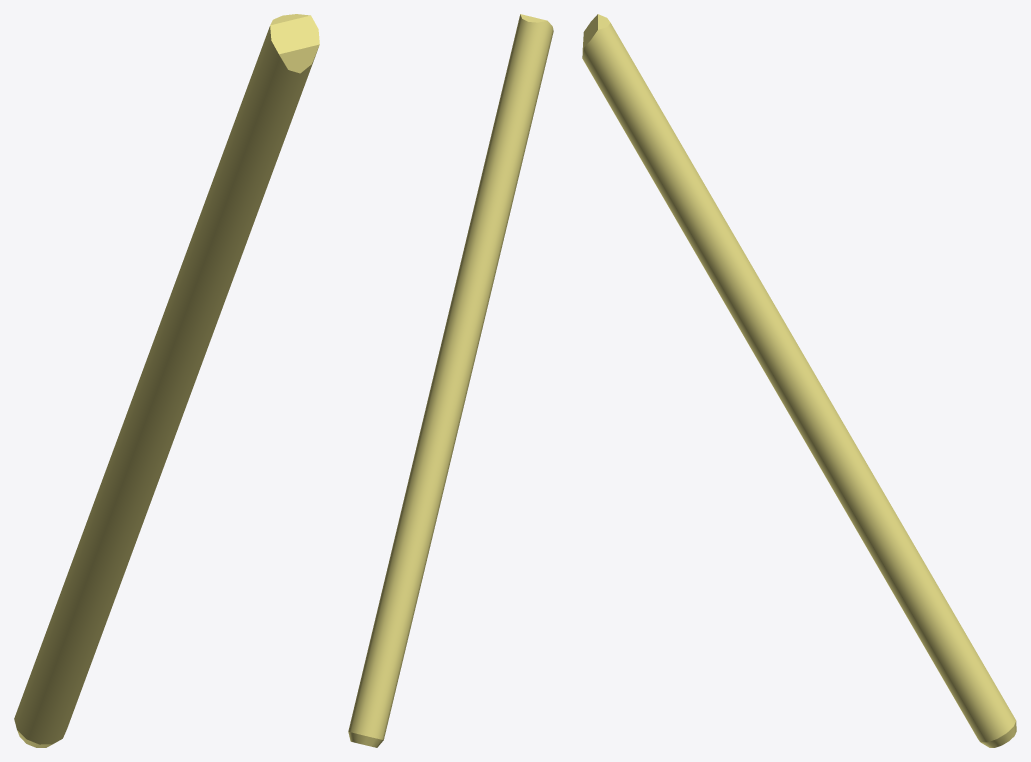
File: original-8.obj
The picture shows the model from 3 angles, left to right: view 1: azimuth 30°, elevation 25°; view 2: azimuth 150°, elevation 25°; view 3: azimuth 270°, elevation 25°; orthographic projection. The views are drawn at different scales.
Parts seen in each view (by area): view 1: Group_1_2/Group_1/mesh25/mesh25-geometry#mesh25-geometry; view 2: Group_1_2/Group_1/mesh25/mesh25-geometry#mesh25-geometry; view 3: Group_1_2/Group_1/mesh25/mesh25-geometry#mesh25-geometry.
Part boxes in pixels (x1,y1,x2,y2): Group_1_2/Group_1/mesh25/mesh25-geometry#mesh25-geometry: (14, 14, 319, 747); Group_1_2/Group_1/mesh25/mesh25-geometry#mesh25-geometry: (348, 14, 553, 747); Group_1_2/Group_1/mesh25/mesh25-geometry#mesh25-geometry: (582, 14, 1016, 747).
Size of the model in its own units: 0.045 by 0.8246 by 0.4485.
